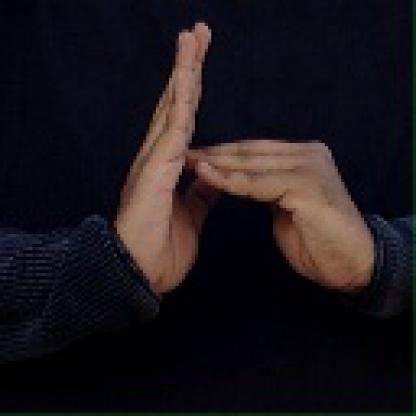Z: (130, 17, 336, 300)
